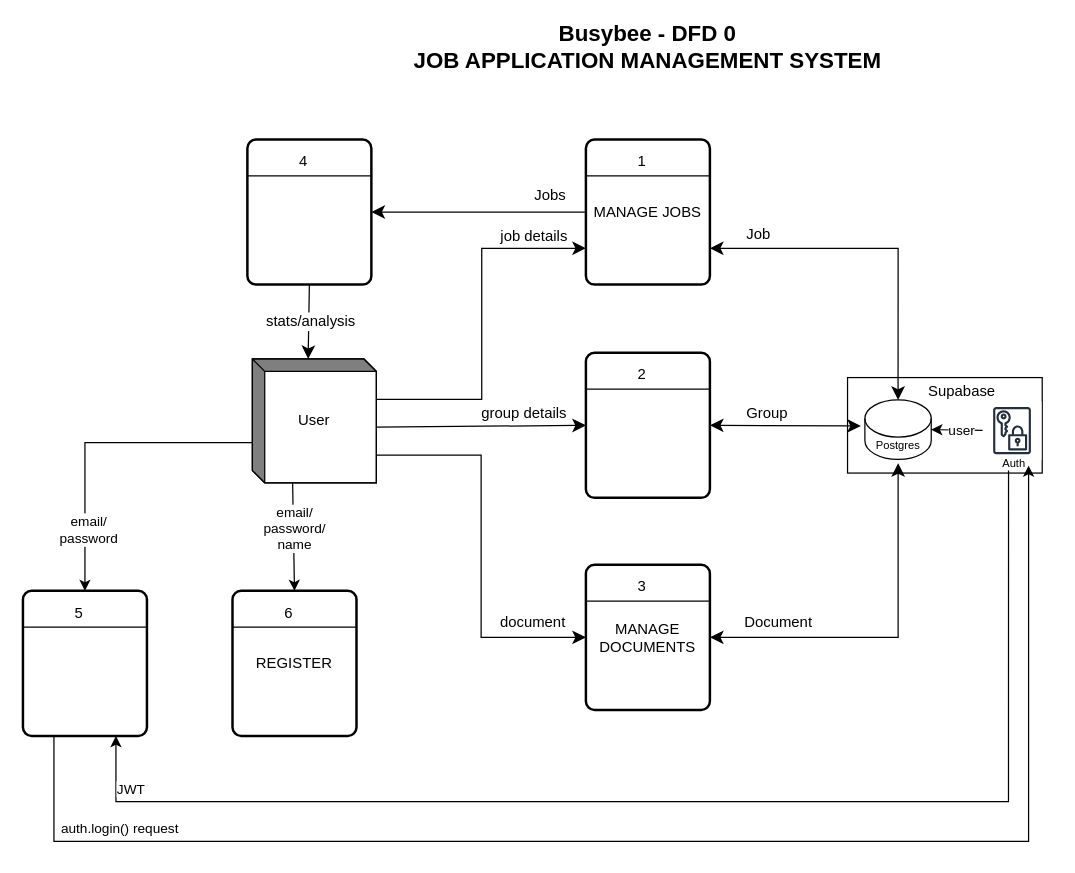
Some shapes in this 1075 by 873 pixel diagram are drawn without their labels. The shapes that lost their labels are listed below. From the top down, each one's box as (x1, y1, x2, y2) in pixels, then its label:
(246, 138, 372, 285): PRODUCE STATISTICS
(584, 351, 711, 498): MANAGE GROUPS
(21, 589, 148, 737): LOGIN
